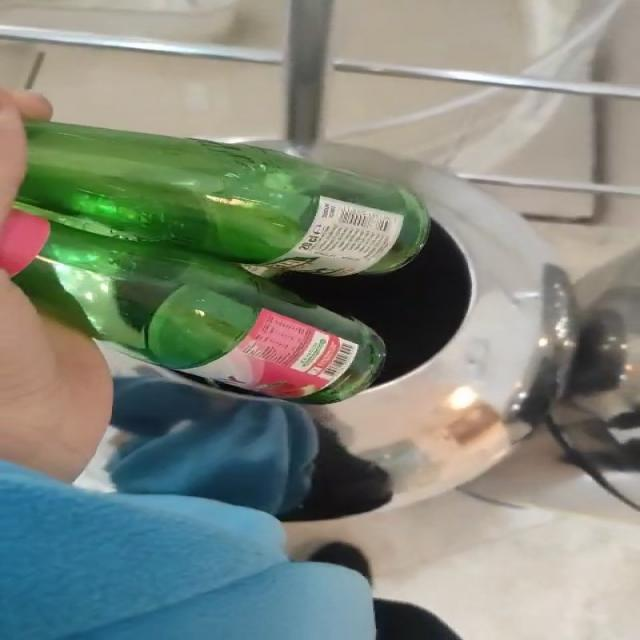glass: (13, 122, 431, 404)
